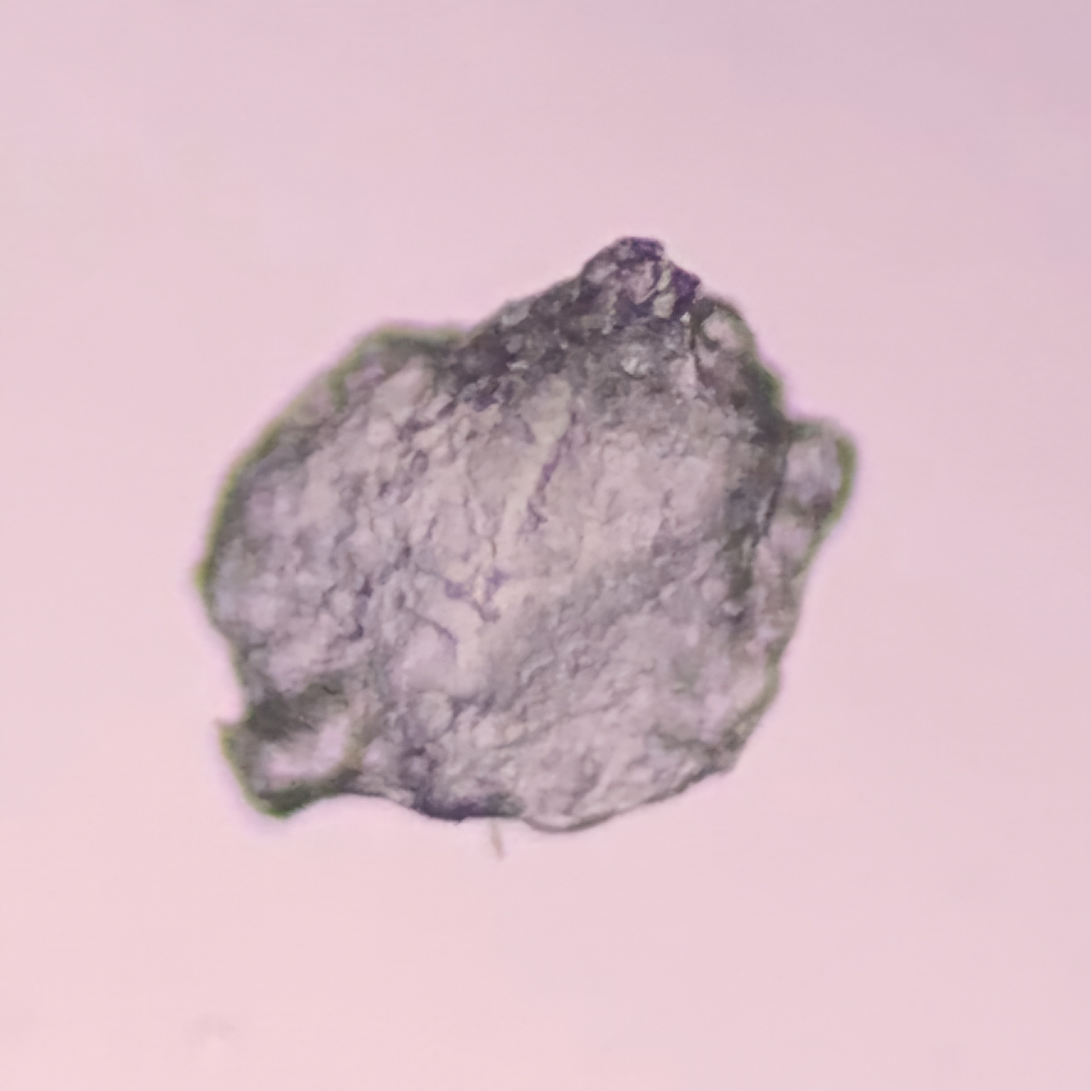microplastic: (183, 233, 861, 850)
